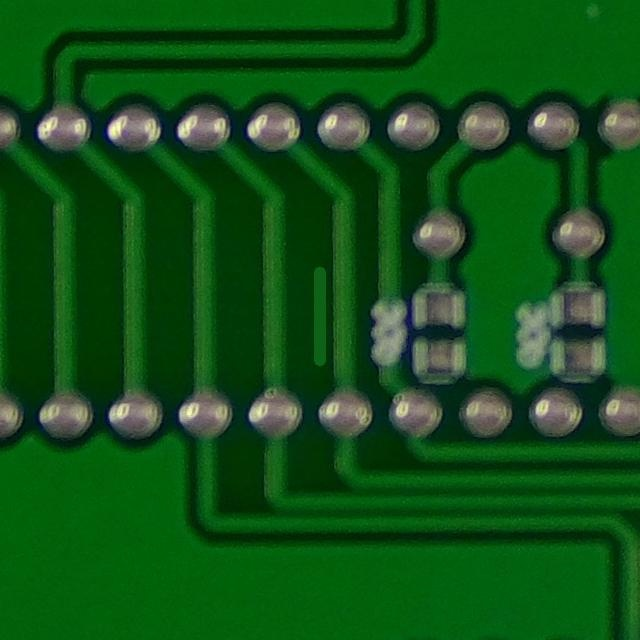spurious_copper: (296, 262, 344, 378)
